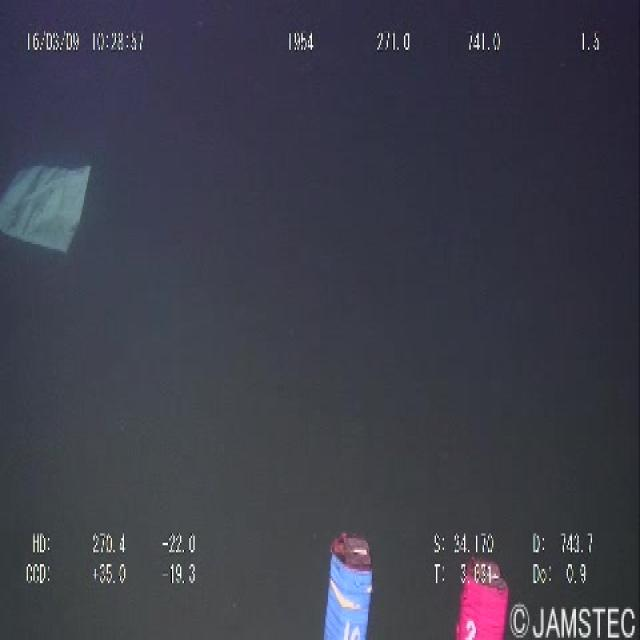plastic: (0, 151, 93, 263)
